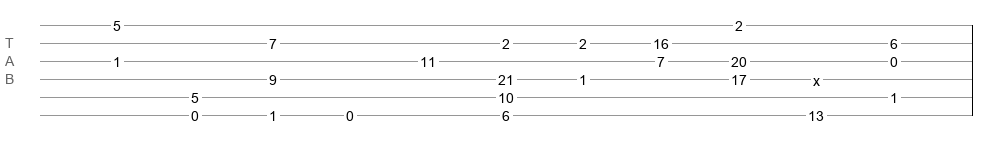0: (191, 108, 199, 118), (346, 108, 354, 118), (890, 54, 898, 64)
1: (113, 54, 121, 64), (269, 108, 277, 118), (579, 72, 587, 82), (890, 90, 898, 100)
10: (498, 90, 514, 100)
11: (420, 54, 436, 64)
13: (808, 108, 824, 118)
16: (653, 36, 669, 46)
17: (731, 72, 747, 82)
2: (502, 36, 510, 46), (579, 36, 587, 46), (735, 18, 743, 28)
20: (731, 54, 747, 64)
21: (498, 72, 514, 82)
5: (113, 18, 121, 28), (191, 90, 199, 100)
6: (502, 108, 510, 118), (890, 36, 898, 46)
7: (269, 36, 277, 46), (657, 54, 665, 64)
9: (269, 72, 277, 82)
x: (813, 73, 820, 81)
